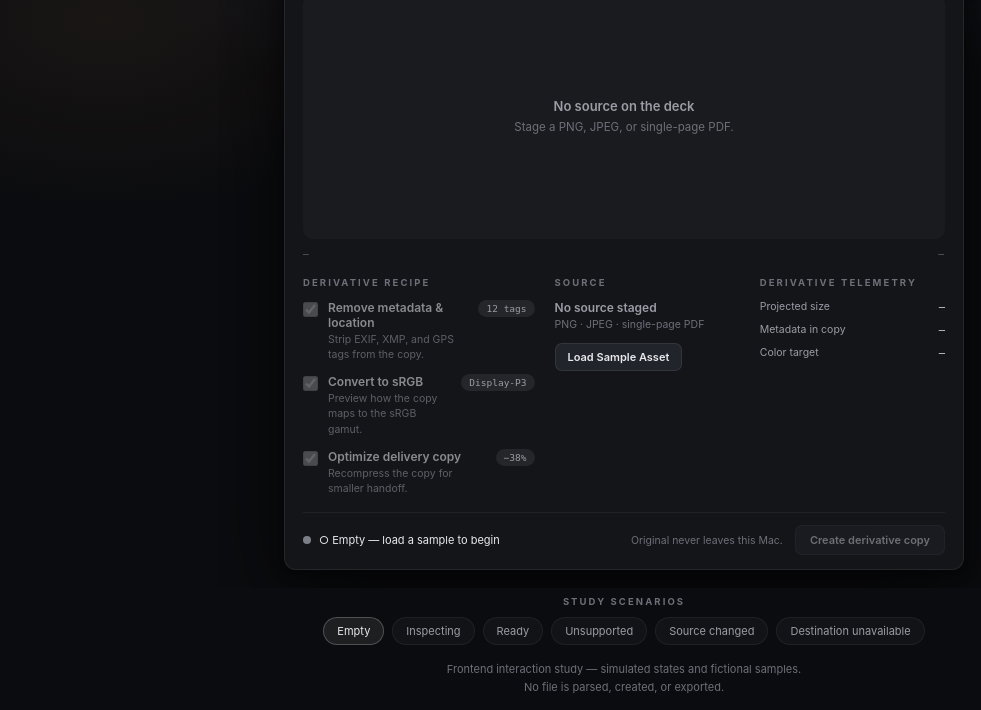
Scenario: app study › reaches the unsupported state via scenarios
The width and height of the screenshot is (981, 710).
(page scrolled)
Click the button "Unsupported". click: (599, 631)
box: 551,617 -> 647,645
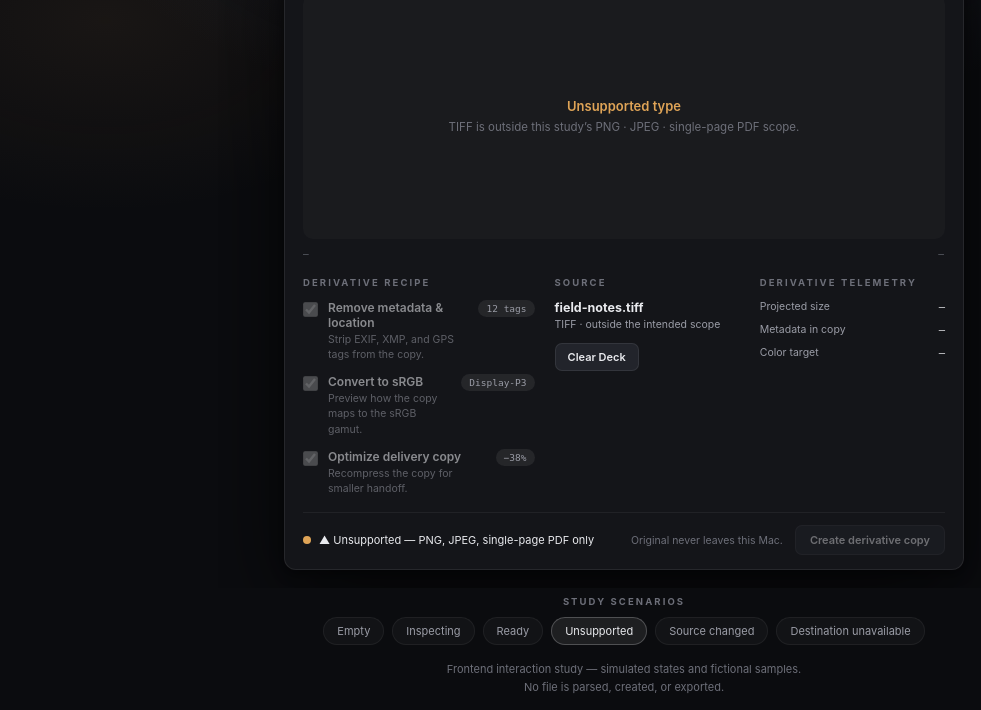
Check: the button "Create derivative copy" is disabled, box 795,525 -> 945,555
Check: the text "▲ Unsupported — PNG, JPEG, single-page PDF only" is shown, box 303,533 -> 594,547
Check: the text "field-notes.tiff" is shown, box 554,300 -> 644,315
